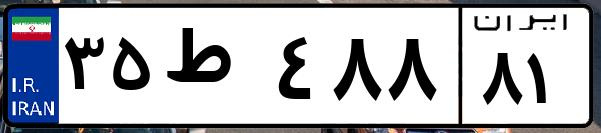1: (525, 38, 570, 115)
3: (57, 26, 110, 100)
4: (270, 28, 330, 110)
5: (110, 28, 158, 98)
8: (385, 28, 445, 110), (330, 28, 385, 110), (475, 38, 525, 113)
ط: (158, 20, 270, 120)
